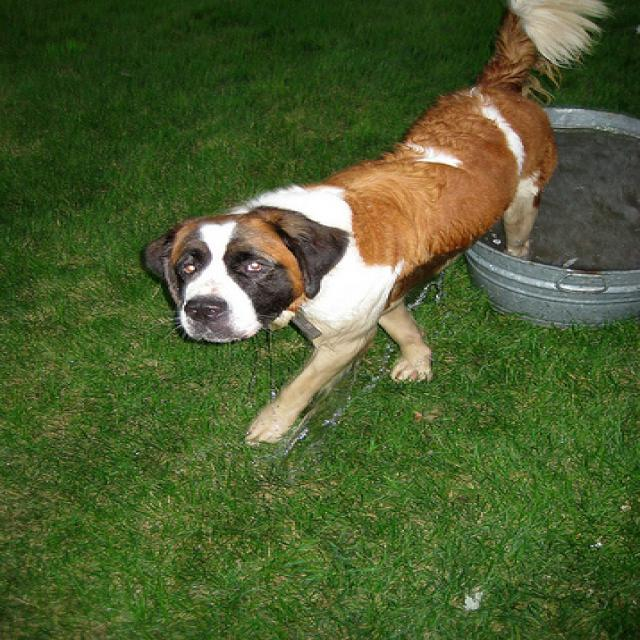dog-saint_bernard: (138, 1, 601, 440)
